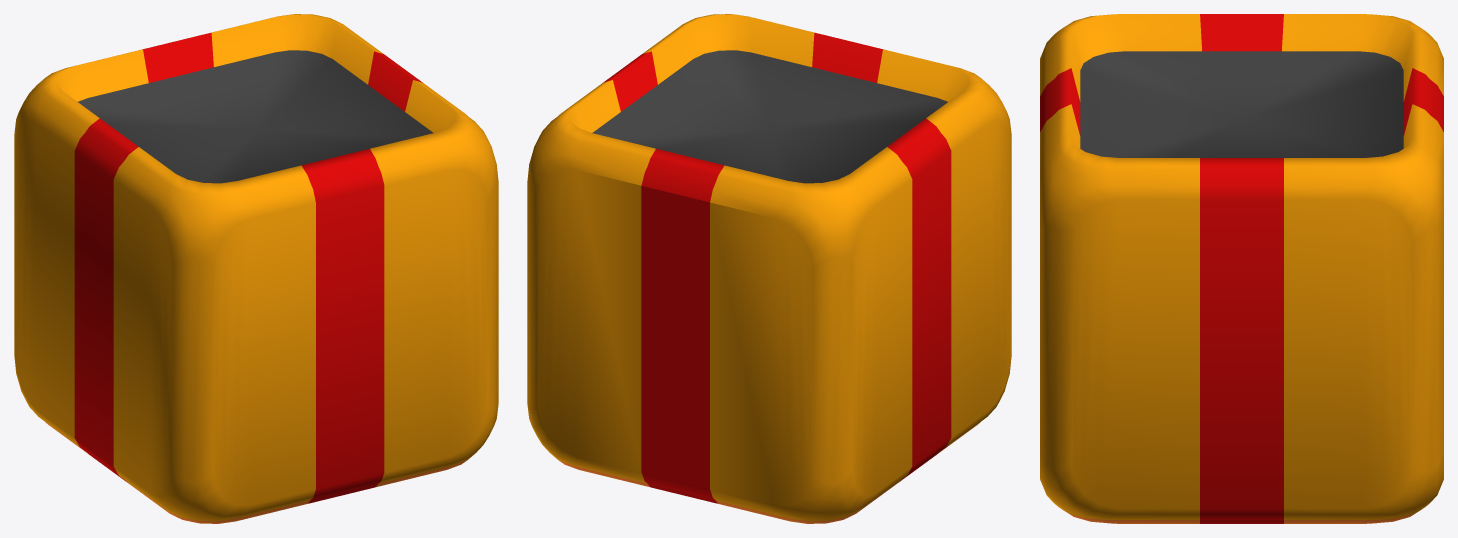
The model's file is D_FBX_16_Present_Box_Down.fbx.
3 renders of one model, left to right at view 1: azimuth 30°, elevation 25°; view 2: azimuth 150°, elevation 25°; view 3: azimuth 270°, elevation 25°, orthographic. The views are drawn at different scales.
Visible parts, largest first — view 1: D_FBX_16_Present_Box_Down; view 2: D_FBX_16_Present_Box_Down; view 3: D_FBX_16_Present_Box_Down.
Boxes of the visible parts, box(x1,y1,x2,y2) form: D_FBX_16_Present_Box_Down: box(14, 14, 498, 523); D_FBX_16_Present_Box_Down: box(527, 14, 1011, 523); D_FBX_16_Present_Box_Down: box(1040, 14, 1443, 523).
Bounding box in the file's own units: 214 × 214 × 214.
